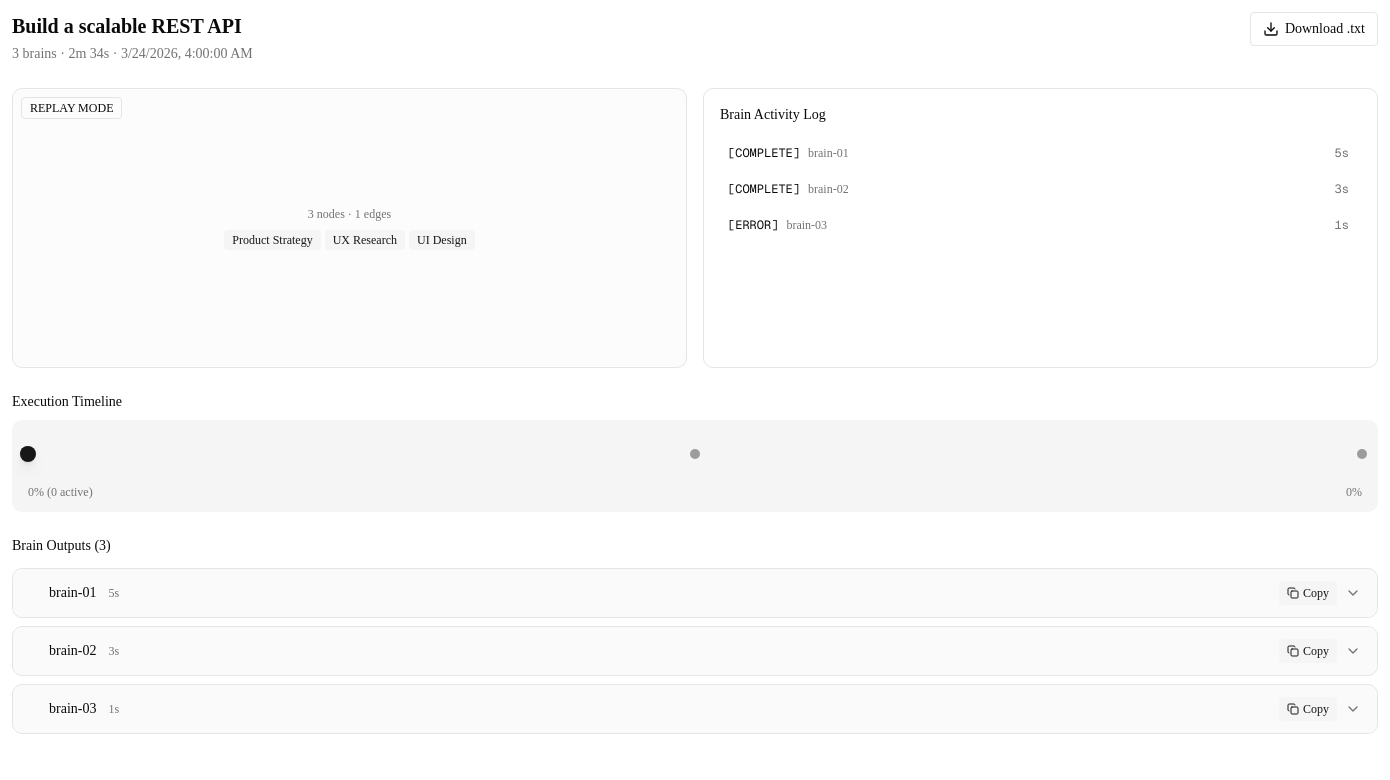
Scenario: ExecutionDetail › expands accordion item to show SmartMarkdown on click
The image size is (1390, 780).
Click to expand
What coordinates should you click on to do the following:
click the button with test id "accordion-header-brain-01"
I would click on:
 (73, 592)
Its box is [13,569,1377,617].
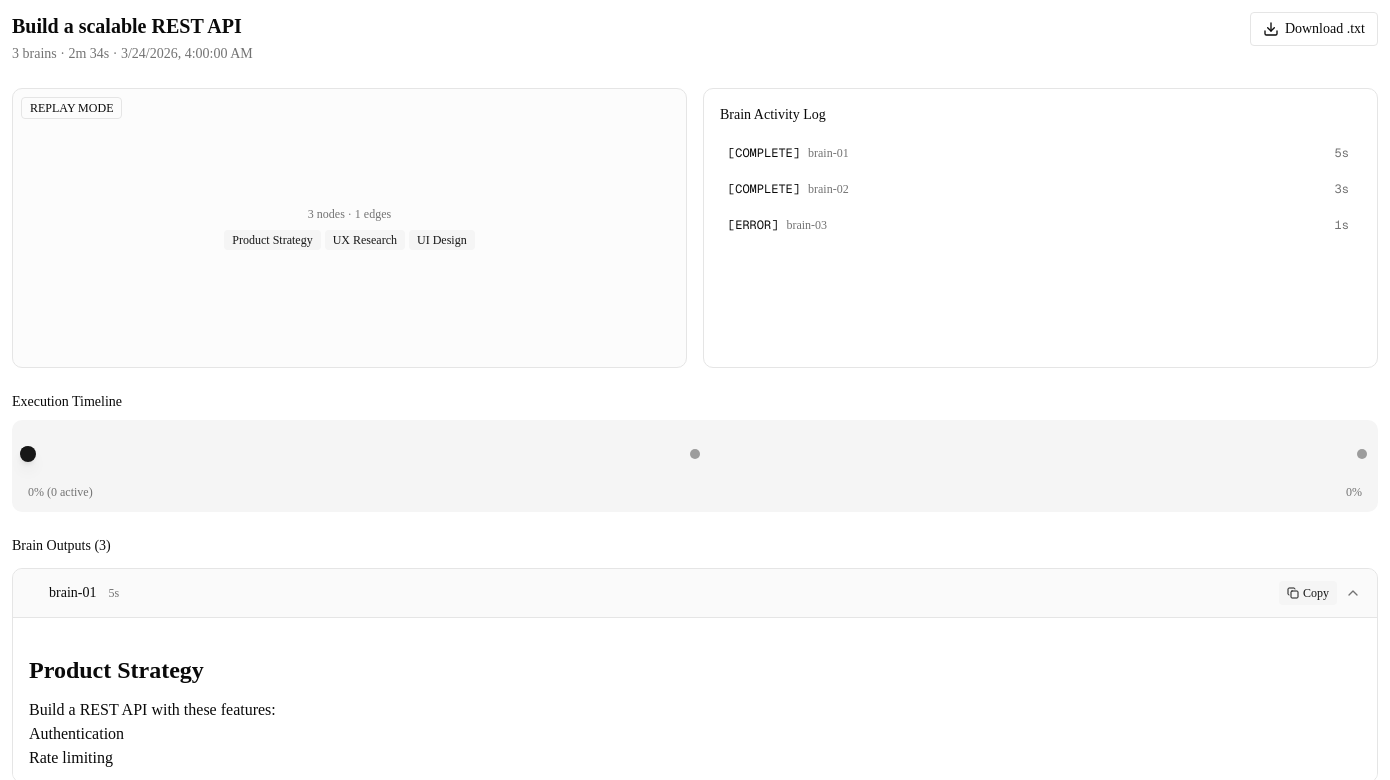
Check: the element with test id "smart-markdown" is shown, box [29,657,276,766]
